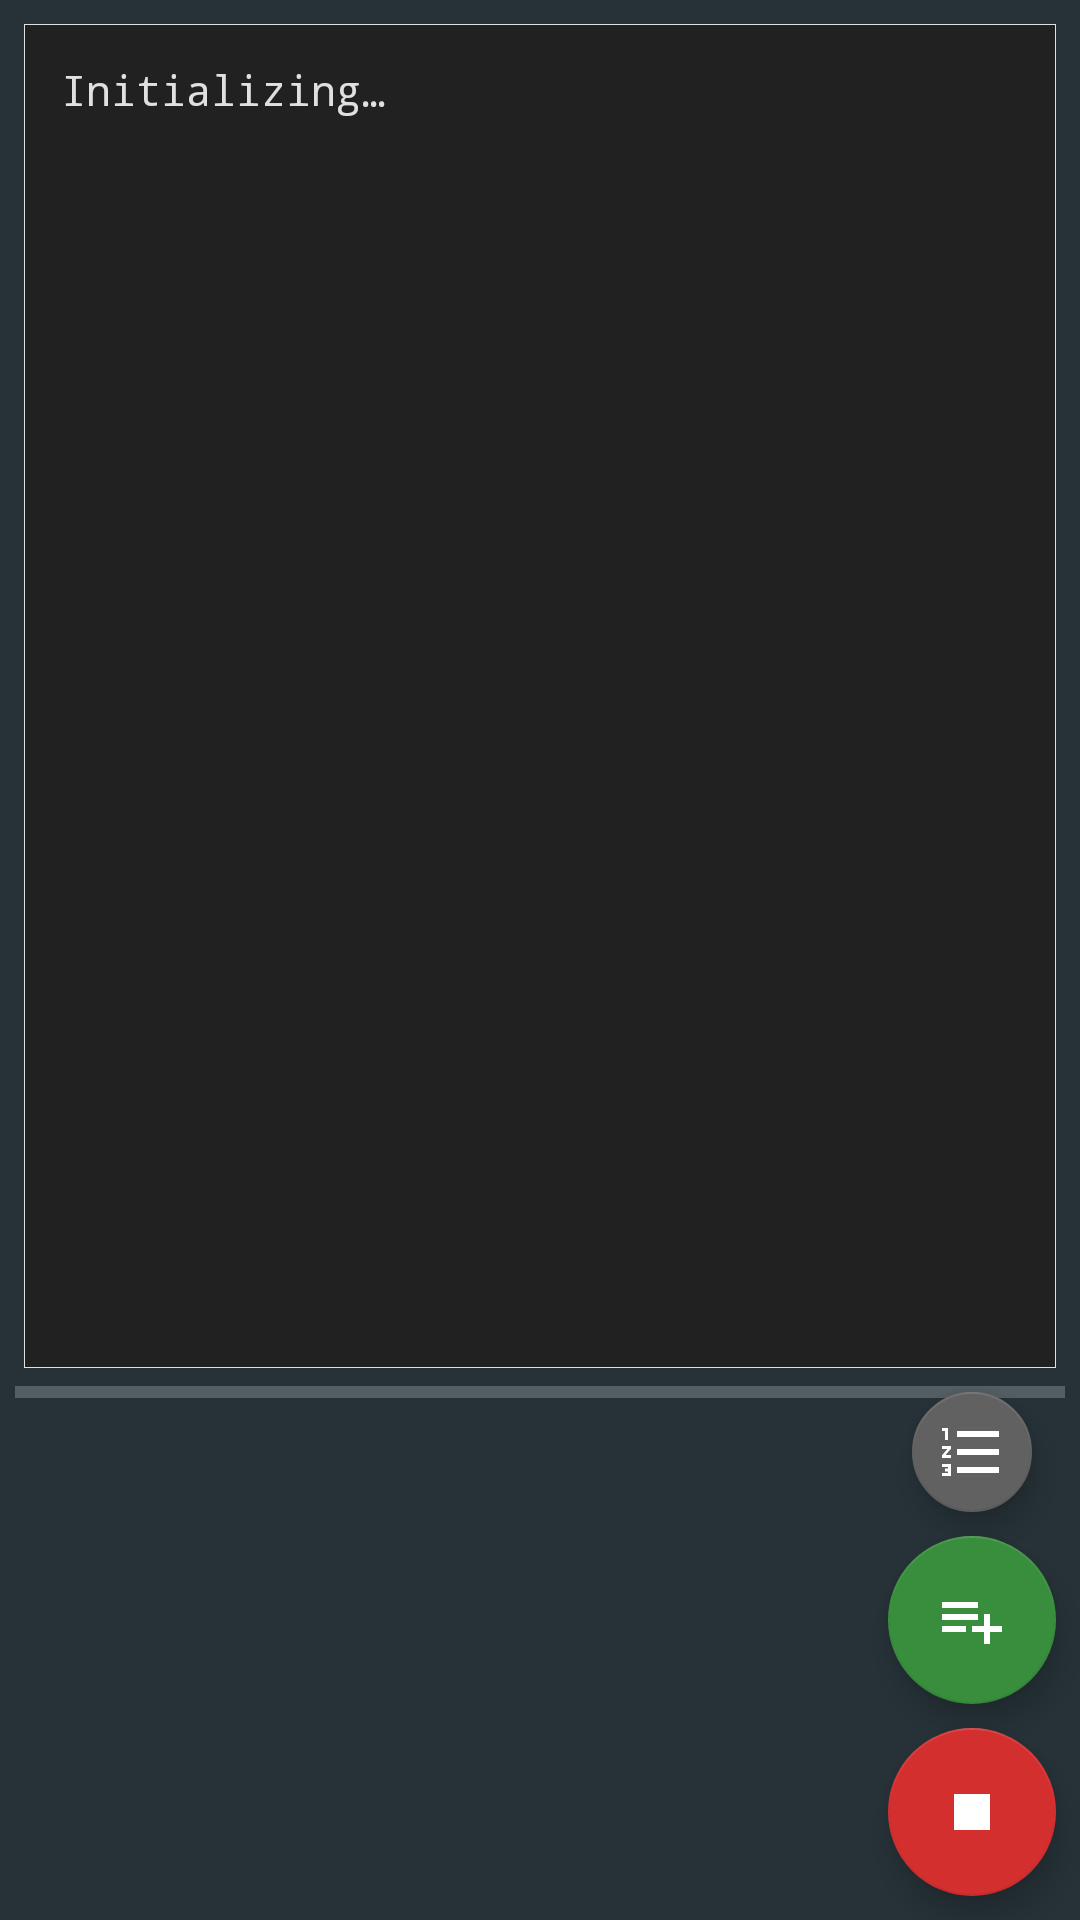

Icons on this 1080px×1920px Android screen, each with its box as bbox=(x1, y1, x2, y2):
addjob: bbox=(888, 1536, 1056, 1704)
jobslist: bbox=(912, 1392, 1032, 1512)
stopjob: bbox=(888, 1728, 1056, 1896)
